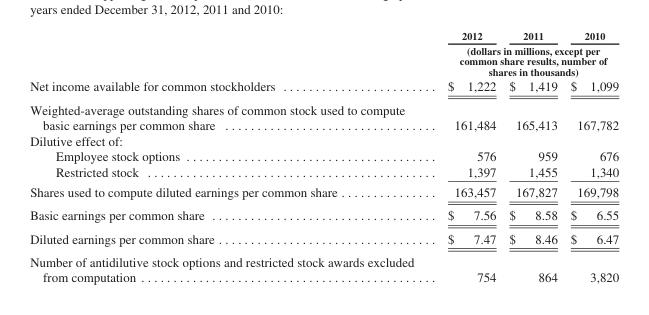table: (29, 28, 618, 284)
table column: (29, 28, 430, 284), (430, 28, 502, 284), (502, 28, 563, 284), (563, 28, 618, 284)
table column header: (29, 28, 618, 77)
table projected row header: (29, 132, 618, 147)
table row: (29, 42, 618, 77), (29, 97, 618, 132), (29, 249, 618, 284), (29, 203, 618, 226), (29, 226, 618, 249), (29, 181, 618, 203), (29, 77, 618, 97), (29, 163, 618, 181), (29, 147, 618, 163), (29, 132, 618, 147), (29, 28, 618, 42)
table spanning cell: (430, 42, 618, 77)
